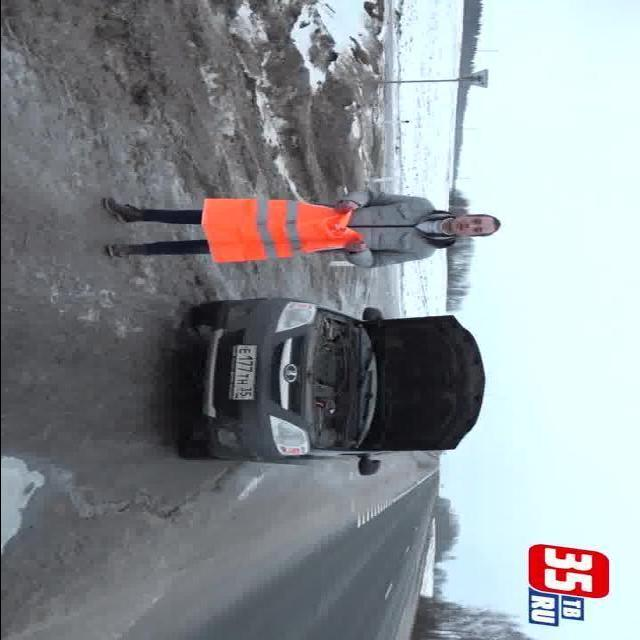vest: (197, 198, 367, 264)
